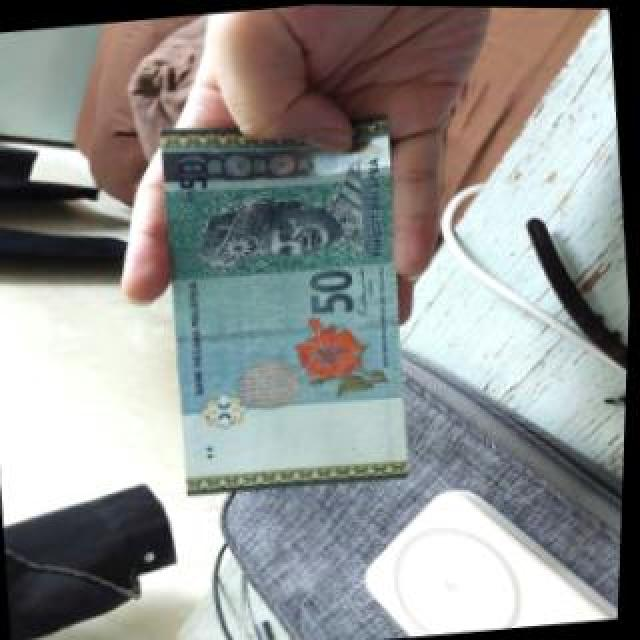50 Ringgit: (142, 92, 420, 493)
